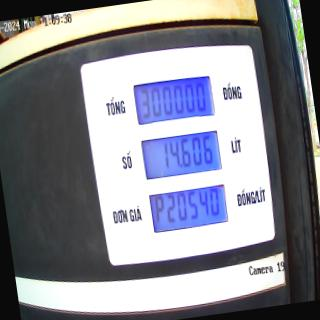screen: (130, 70, 232, 236)
